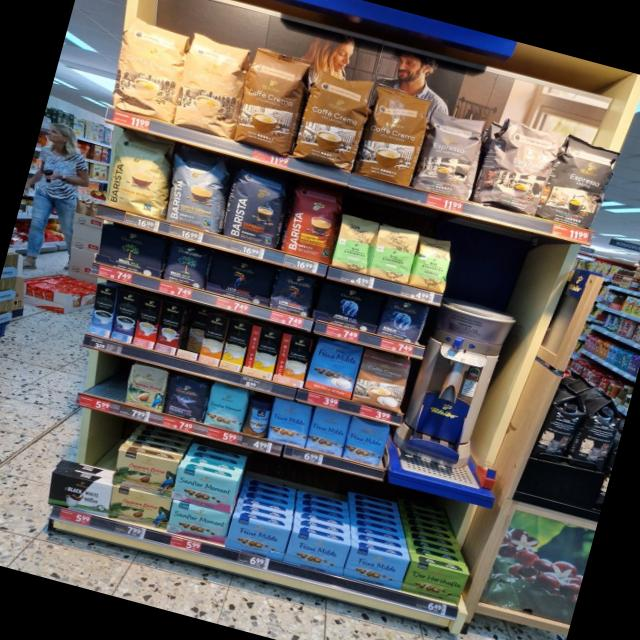AB Bohne: (375, 295, 432, 346)
AB Gemahlen: (311, 279, 386, 334)
Athiopien Bohne: (408, 233, 455, 294)
Athiopien Gemahlen: (368, 223, 422, 286), (328, 214, 378, 276)
BM Bohne: (162, 238, 214, 289)
BM Gemahlen: (94, 222, 172, 279)
BW Gemahlen: (46, 471, 113, 517)
Barista CB: (101, 128, 180, 221)
Barista CC: (161, 149, 236, 235)
Barista Espresso: (219, 165, 296, 252)
Barista Kolumbien: (277, 181, 347, 265)
C Fino Bohne: (161, 371, 212, 423)
CC Mild: (107, 15, 194, 124), (171, 30, 255, 140)
CC Vollmundig: (349, 348, 415, 414)
CC Vollmundig 36 Pads: (287, 62, 379, 175), (231, 44, 318, 159), (352, 81, 437, 189)
Colombia BB Bohne: (120, 361, 171, 413)
Colombia BB Gemahlen: (110, 449, 180, 498), (107, 485, 173, 529)
Empty Shelf: (79, 350, 132, 402)
Espresso Aromatisch: (471, 112, 564, 220), (409, 107, 489, 204)
Espresso Kraftig: (532, 130, 627, 231)
FM 36 Pads: (302, 335, 365, 401)
FM Bohne: (340, 416, 395, 468), (264, 397, 315, 448), (304, 406, 354, 458)
FM Gemahlen: (283, 529, 352, 577), (341, 545, 411, 591), (223, 516, 291, 561)
FM Instant: (239, 400, 273, 439)
Herzhatfe Mundig: (401, 559, 471, 606)
LG Bohne: (267, 266, 322, 317)
LG Gemahlen: (204, 248, 278, 306)
SM Bohne: (202, 384, 250, 433)
SM Gemahlen: (171, 465, 239, 513), (165, 500, 232, 544)
Simo CCMild: (242, 324, 284, 381)
Simo CCMild bigpack: (218, 318, 253, 372)
Simo CCVollmundig: (273, 332, 314, 389)
Simo CCVollmundig bigpack: (198, 313, 230, 366)
Simo Es Brazil: (131, 294, 163, 350)
Simo Es Caramel: (154, 299, 188, 354)
Simo Es Kraft: (108, 288, 142, 344)
Simo Es Vanilla: (86, 282, 119, 339)
